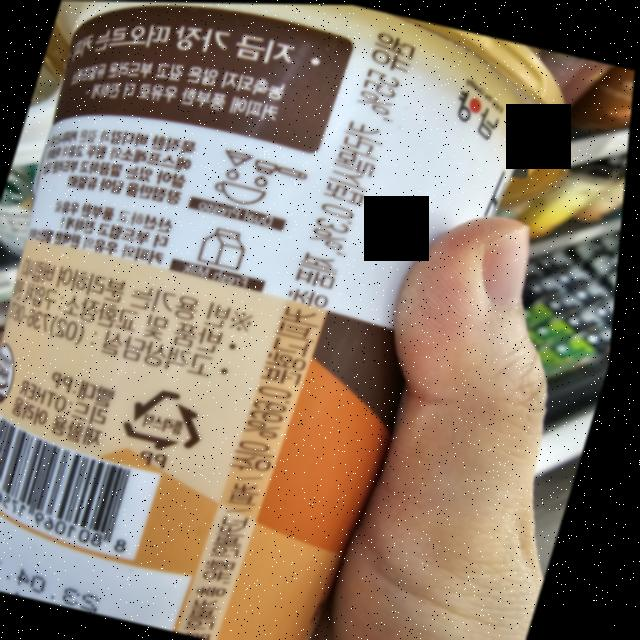Plastic: (121, 379, 225, 459)
